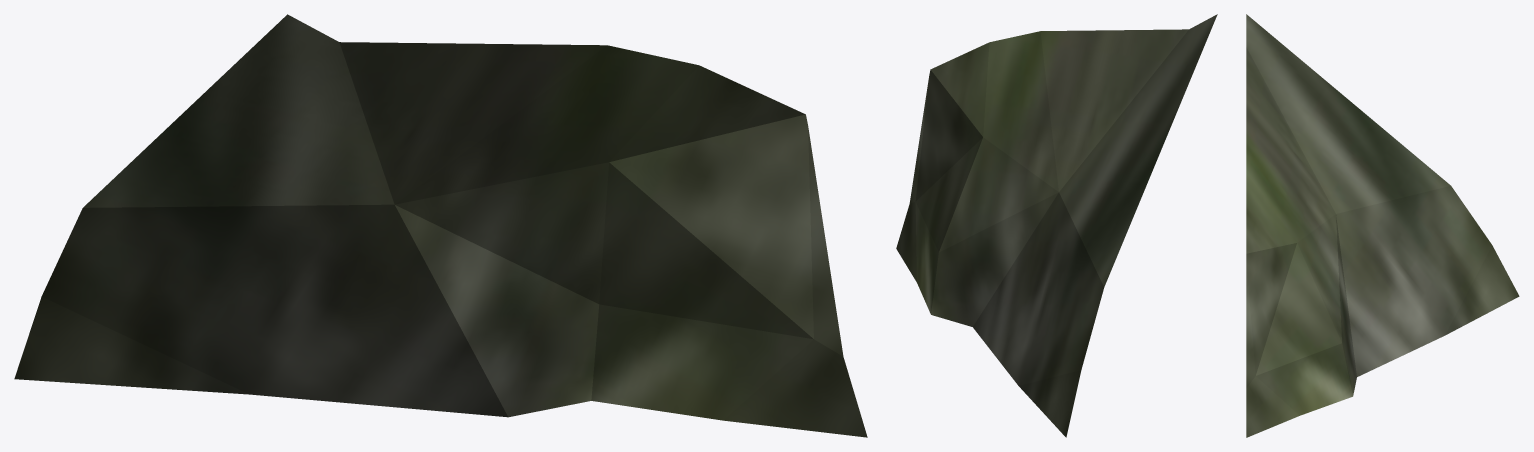
3 renders of one model, left to right at view 1: azimuth 30°, elevation 25°; view 2: azimuth 150°, elevation 25°; view 3: azimuth 270°, elevation 25°, orthographic. The views are drawn at different scales.
Bounding box in the file's own units: 1.01 × 0.939 × 0.8233.
Materials: 1 (1 with a texture image).
